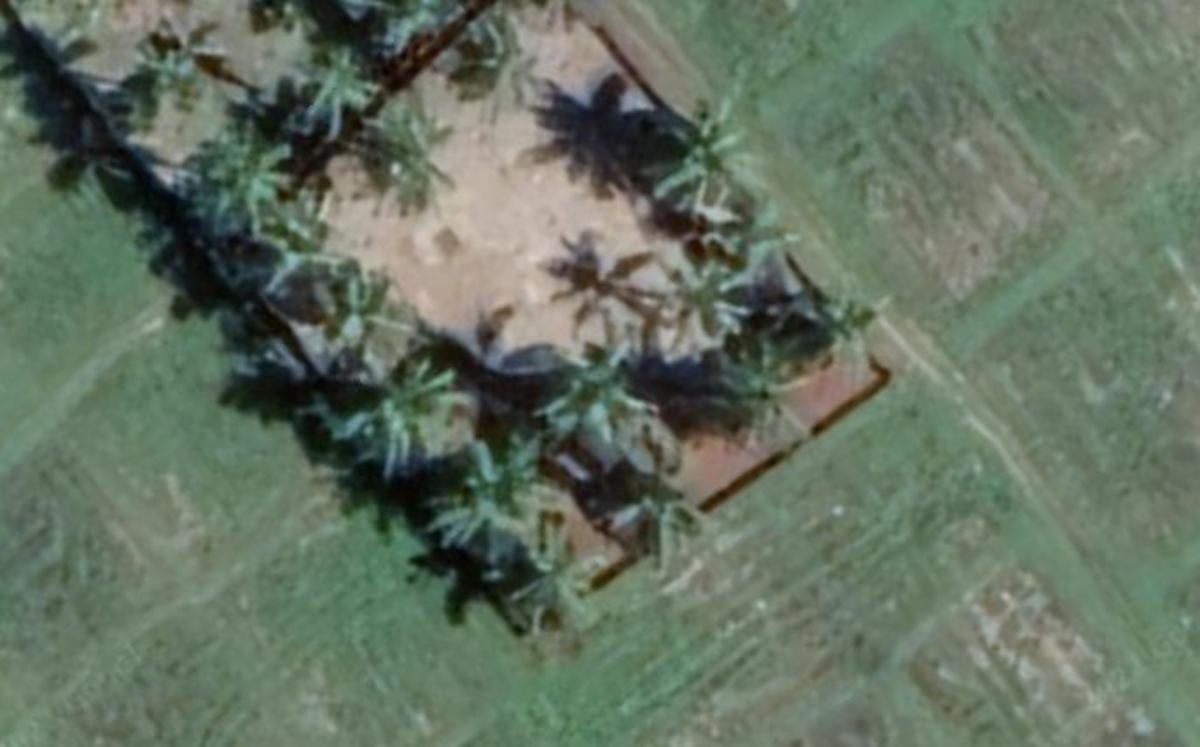coconut: (426, 435, 554, 558), (334, 349, 465, 463), (519, 337, 652, 449), (631, 94, 757, 204), (313, 265, 432, 381), (185, 118, 292, 243), (363, 97, 468, 208), (606, 481, 725, 572), (704, 351, 811, 449), (510, 514, 601, 626), (648, 262, 757, 349), (801, 281, 895, 377), (278, 38, 372, 125), (706, 194, 811, 269), (456, 13, 542, 94)
